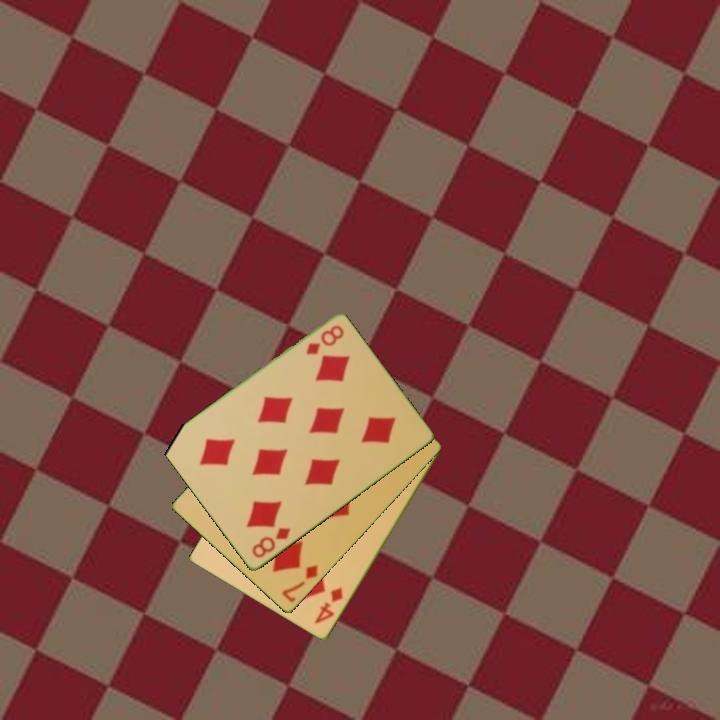4d: (311, 584, 346, 627)
7d: (278, 561, 321, 606)
8d: (248, 524, 294, 561), (302, 322, 347, 358)
